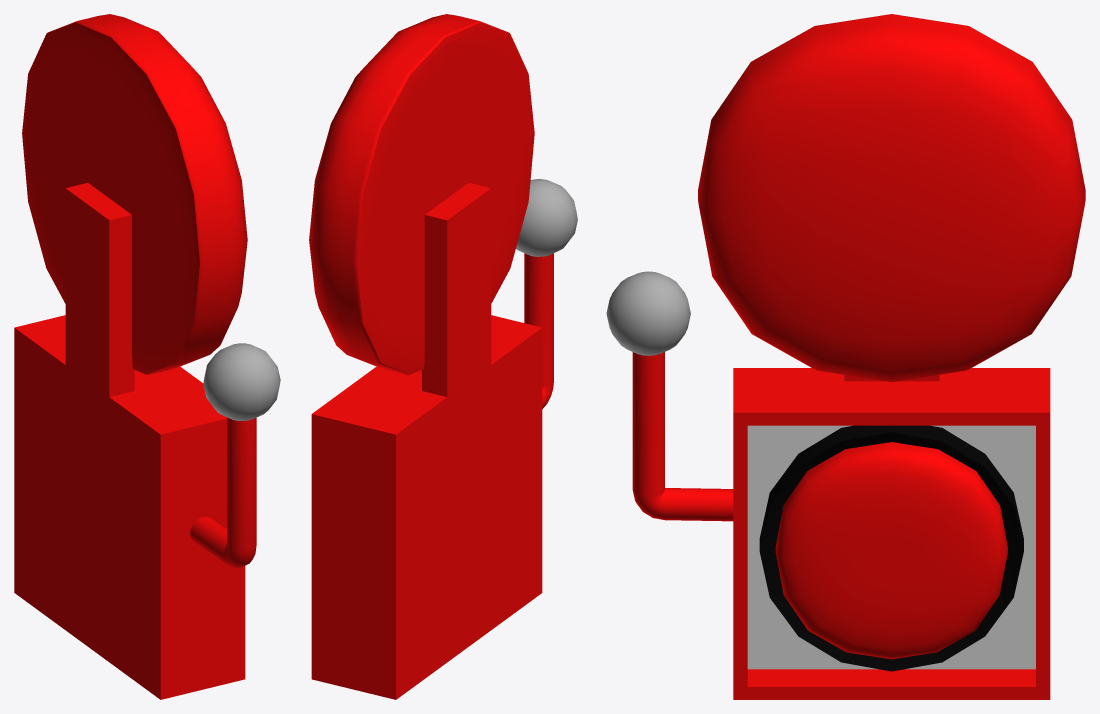
Rendered from alarm kebakaran.fbx.
The picture shows the model from 3 angles, left to right: view 1: azimuth 30°, elevation 25°; view 2: azimuth 150°, elevation 25°; view 3: azimuth 270°, elevation 25°; orthographic projection. The views are drawn at different scales.
Visible parts, largest first — view 1: Cube, Cube.001, Sphere; view 2: Cube, Cube.001, Sphere; view 3: Cube.001, Cube, Cube.002, Sphere, Circle.
Boxes of the visible parts, left/top/right/bottom form: Cube: left=14, top=183, right=245, bottom=699; Cube.001: left=22, top=14, right=247, bottom=375; Sphere: left=190, top=343, right=280, bottom=568; Cube: left=311, top=183, right=542, bottom=699; Cube.001: left=309, top=14, right=534, bottom=375; Sphere: left=516, top=179, right=577, bottom=408; Cube.001: left=698, top=14, right=1085, bottom=382; Cube: left=733, top=368, right=1050, bottom=699; Cube.002: left=775, top=442, right=1007, bottom=659; Sphere: left=606, top=271, right=733, bottom=521; Circle: left=759, top=425, right=1023, bottom=671.
Bounding box in the file's own units: 12 × 68.33 × 45.33.
